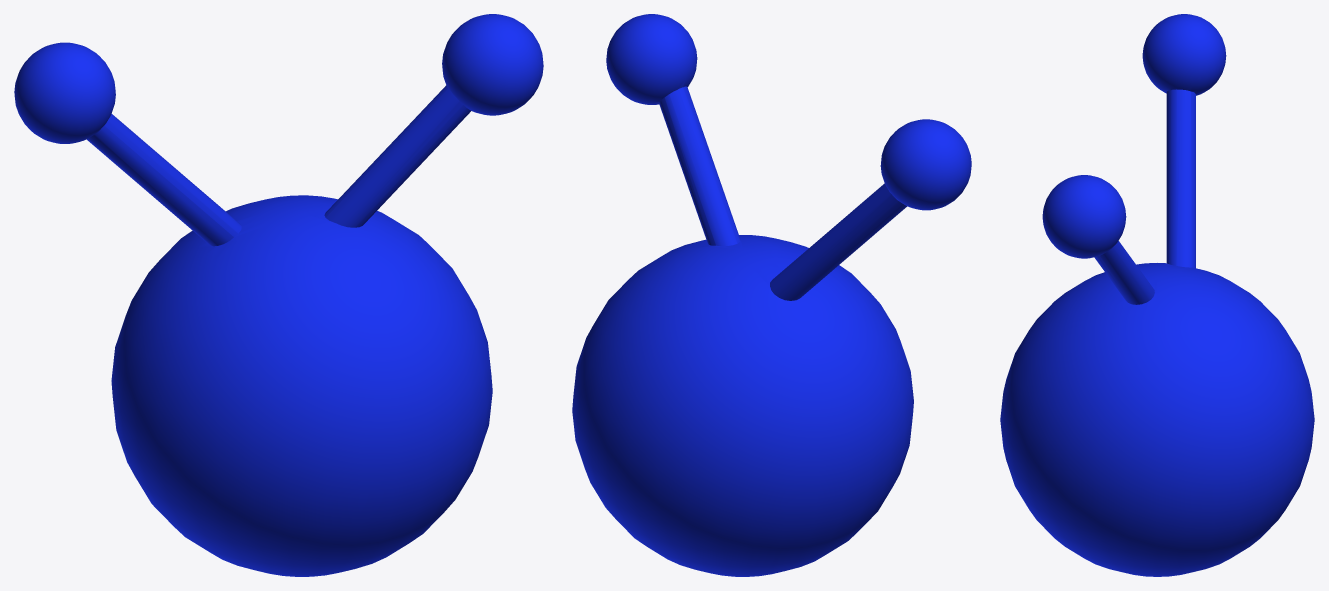
Rendered from manupulyator.FBX.
The picture shows the model from 3 angles, left to right: view 1: azimuth 30°, elevation 25°; view 2: azimuth 150°, elevation 25°; view 3: azimuth 270°, elevation 25°; orthographic projection. The views are drawn at different scales.
Parts seen in each view (by area): view 1: Sphere002; view 2: Sphere002; view 3: Sphere002.
Part boxes in pixels (box(x1,y1,x2,y2)): Sphere002: box(14, 14, 543, 576); Sphere002: box(572, 14, 971, 576); Sphere002: box(1000, 14, 1314, 576).
Bounding box in the file's own units: 34.06 × 39.62 × 24.77.
